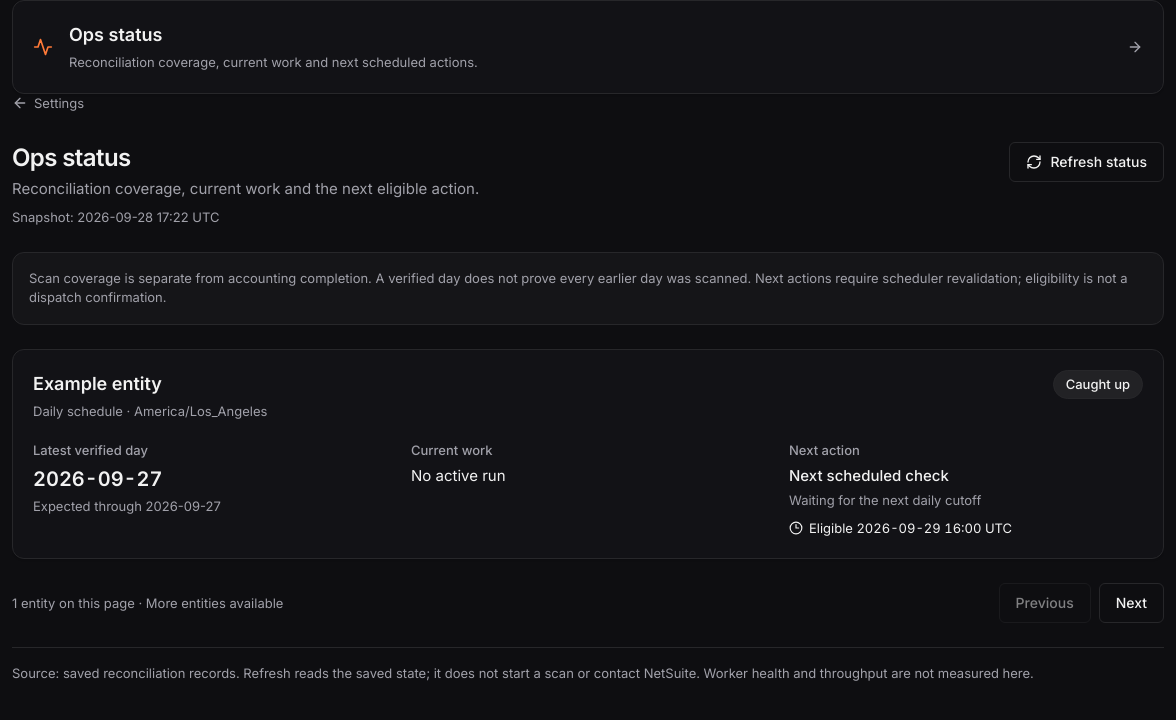
Scenario: follows server pagination and resets it on tenant change
Expected: the heading "Example entity" is shown, [33,373,162,394]
Click the button "Next": (1131, 603) [1099,583,1164,623]
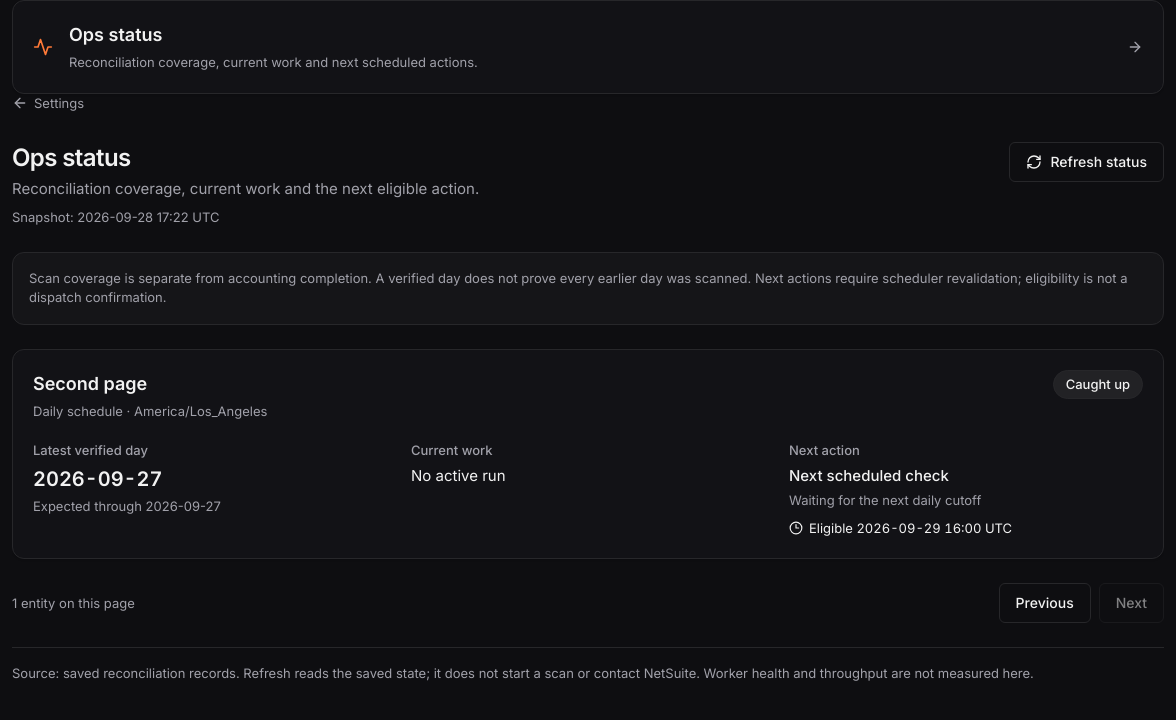
Expected: the heading "Second page" is shown, [33,373,147,394]
Expected: the heading "Example entity" is gone
